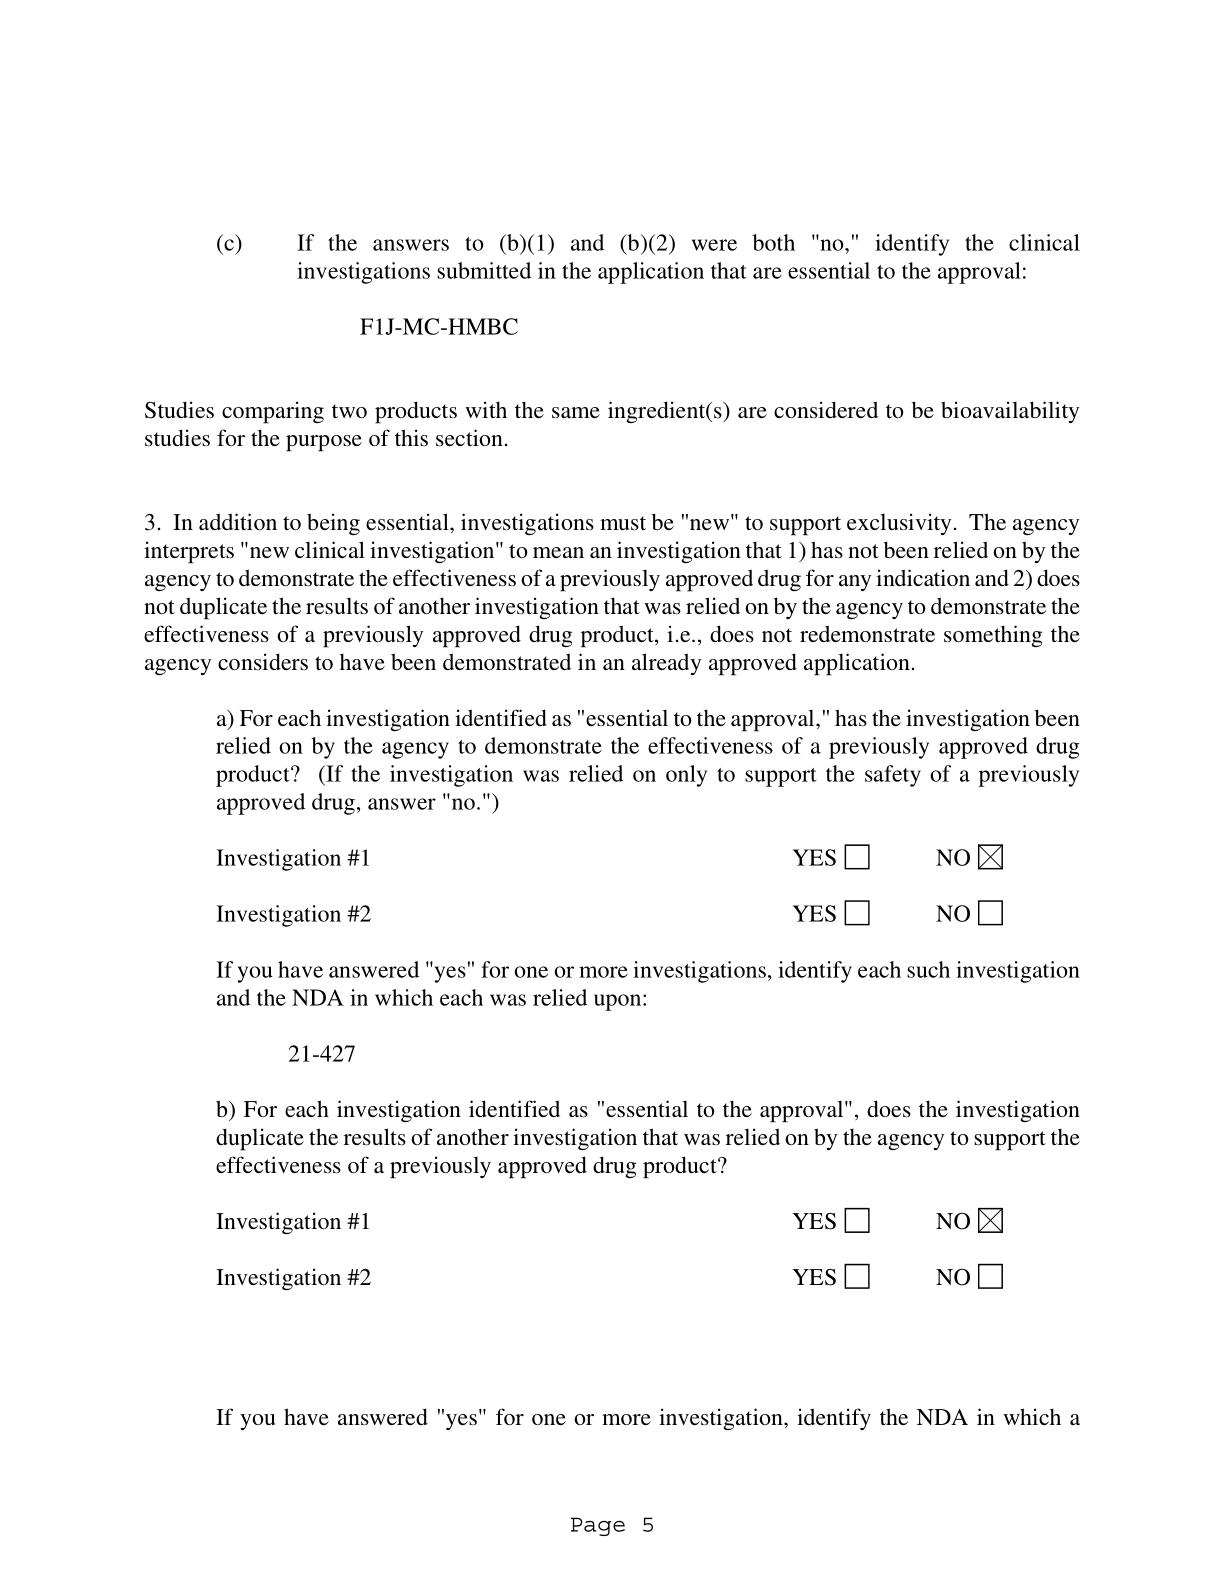nolines: (213, 843, 1008, 931), (213, 1209, 1005, 1293)
